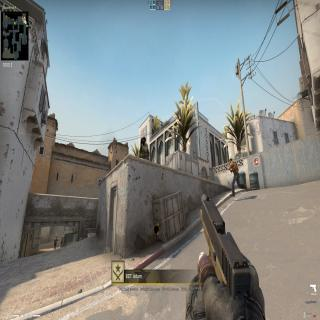CT-Head: (140, 135, 146, 145)
T-Head: (229, 158, 233, 163), (55, 236, 57, 239)
